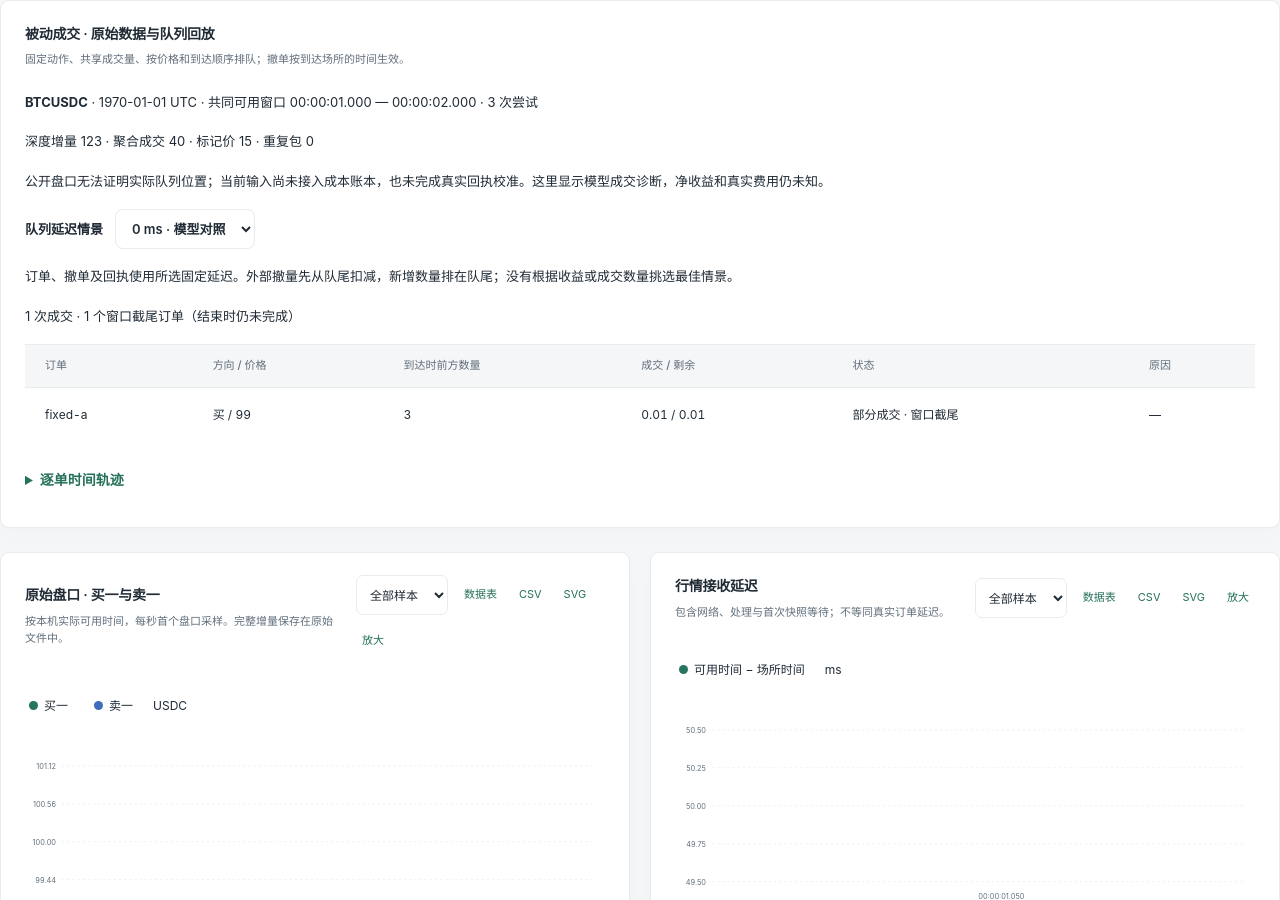
Test case: shows queue assumptions, separate clocks and right censoring without a profit result
Expected: the text "尚未接入成本账本" is shown, left=25, top=173, right=831, bottom=189
Expected: the element named "被动订单结果" shows "窗口截尾", left=900, top=406, right=958, bottom=422
Click the heading "逐单时间轨迹" at (82, 479), box left=40, top=471, right=124, bottom=488
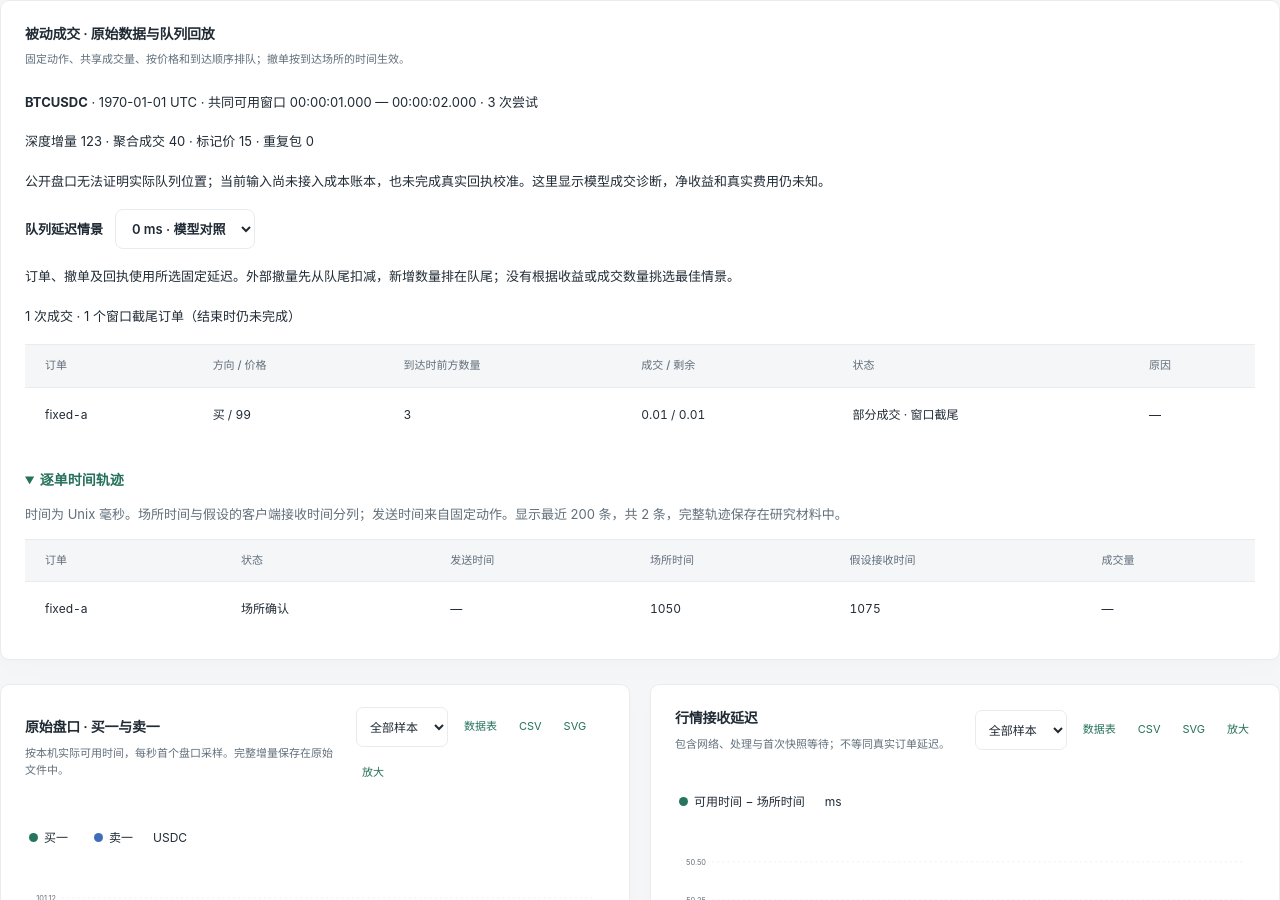
Expected: the element named "订单时钟轨迹" shows "1050", left=650, top=601, right=681, bottom=616
Expected: the element named "订单时钟轨迹" shows "1075", left=850, top=601, right=881, bottom=616
Select "100 ms · 失败" in the dropdown labelled "队列延迟情景" at (185, 229), box left=115, top=209, right=255, bottom=249
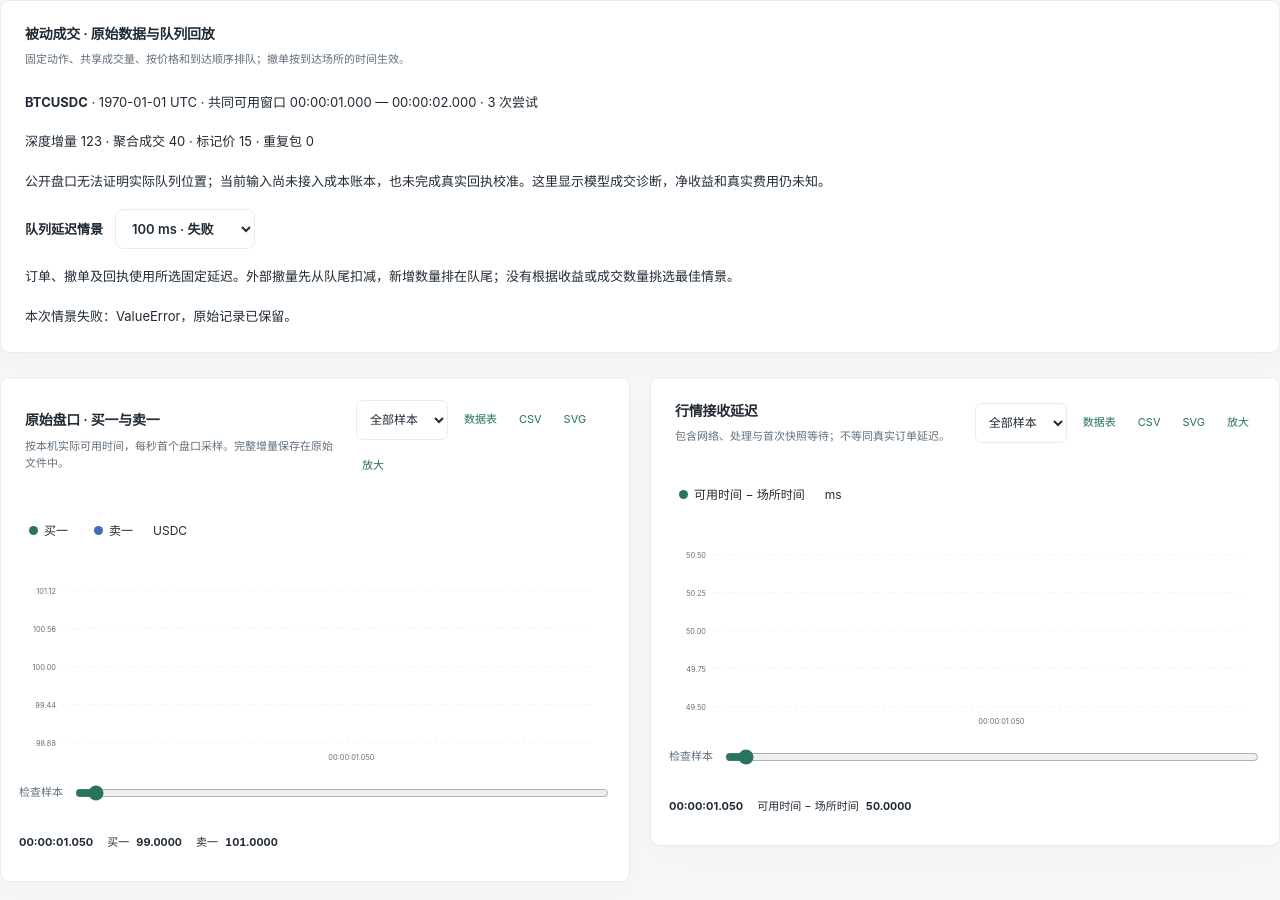
Expected: the message shows "ValueError", left=116, top=308, right=180, bottom=324
Expected: the element "被动订单结果" is gone
